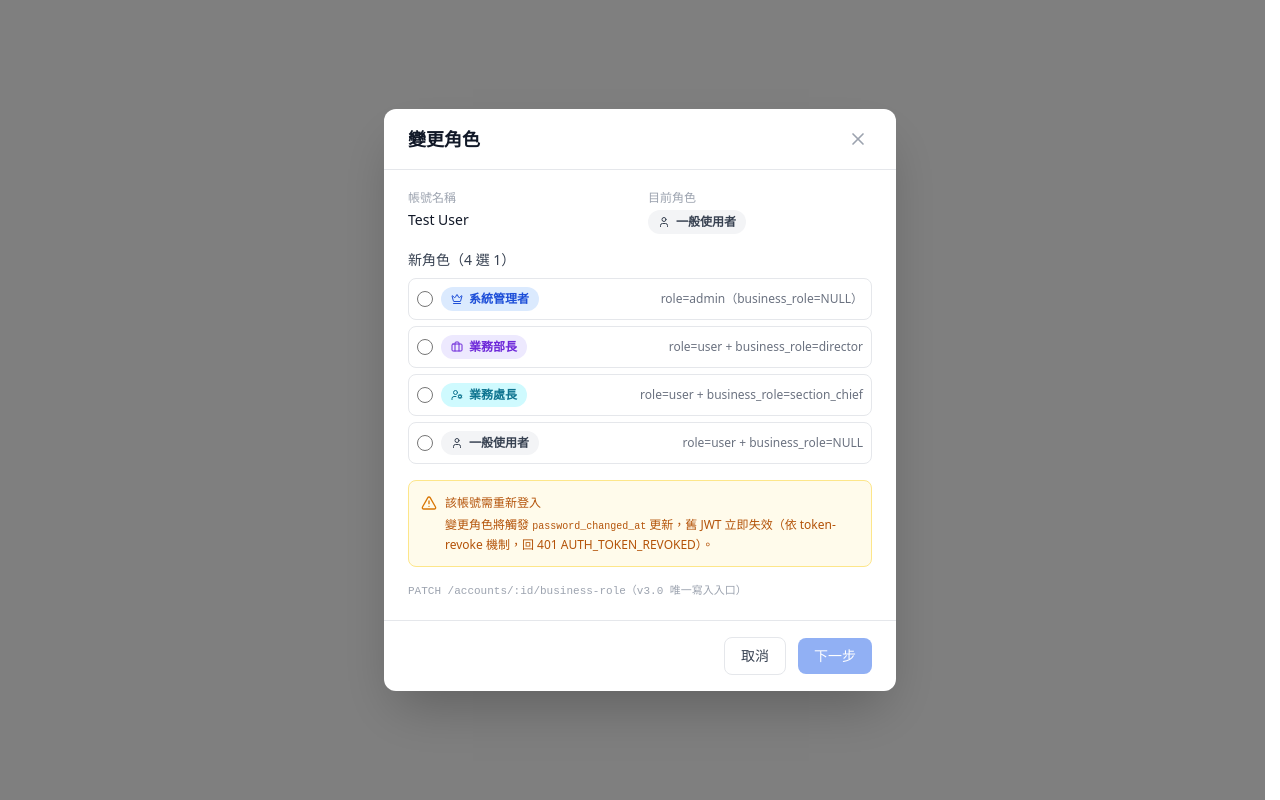
it: ChangeRoleDialog (F006a / AD-E07 v3.0) › 點擊「下一步」進入確認 step，顯示 before→after 與重新登入警告
This screenshot has width=1280, height=800.
Click the radio button with test id "new-role-director": (425, 347) [417,339,433,355]
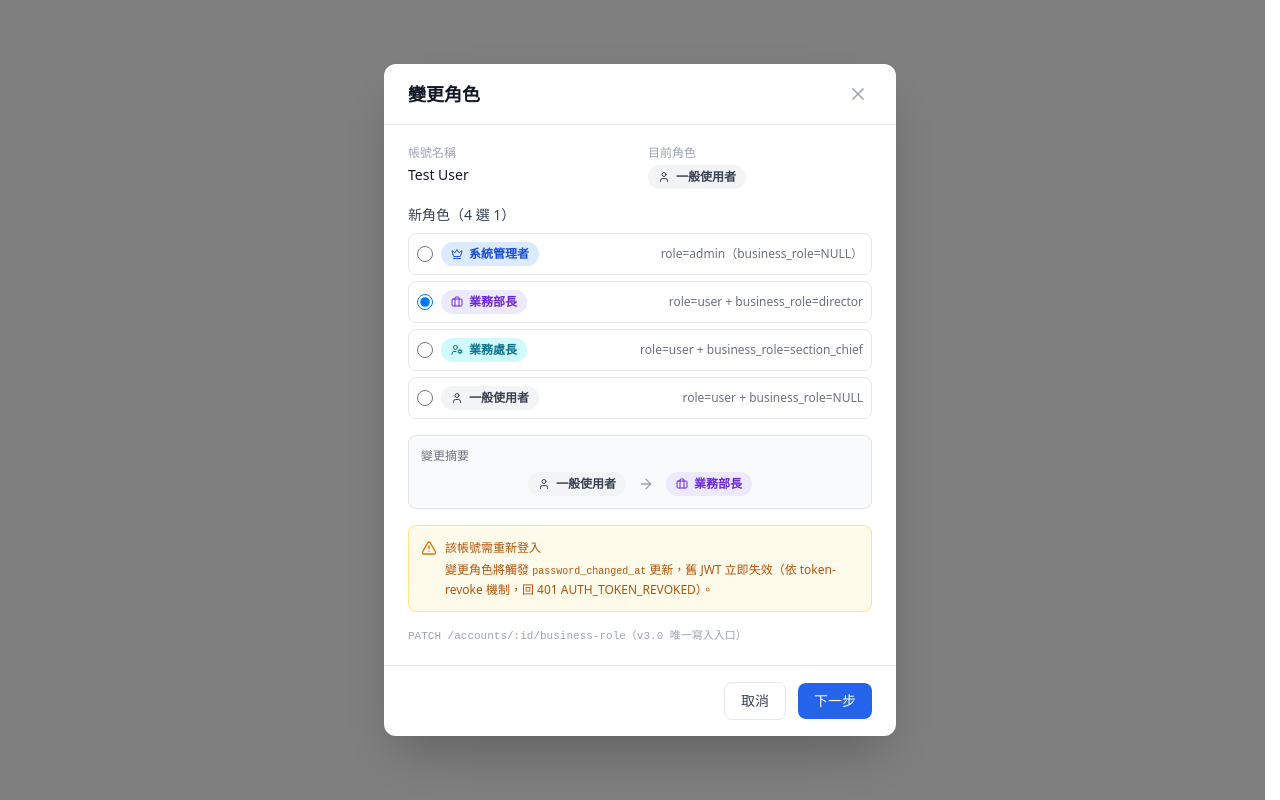
Click the button "下一步": (835, 701) [798,683,872,719]
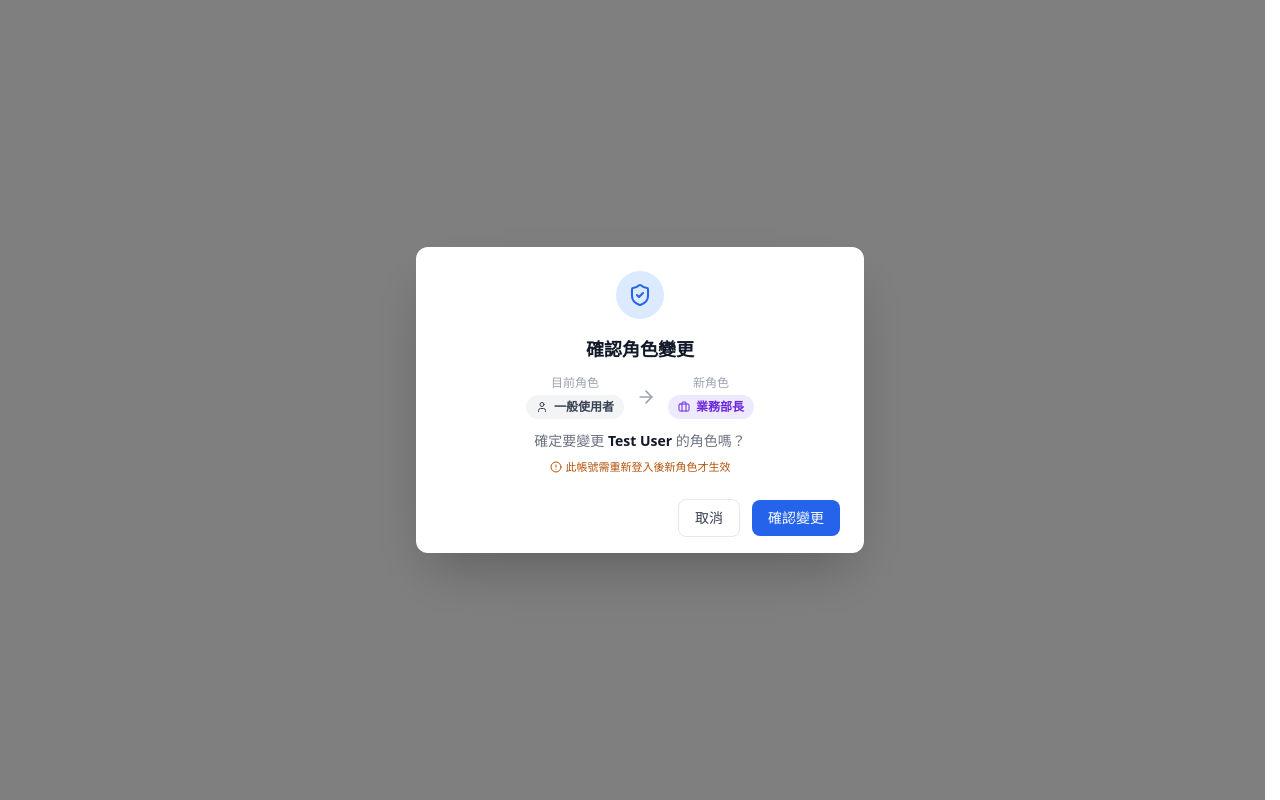
Result: the heading "確認角色變更" is shown at [586,337,694,361]
Result: the text "此帳號需重新登入後新角色才生效" is shown at [566,459,730,475]
